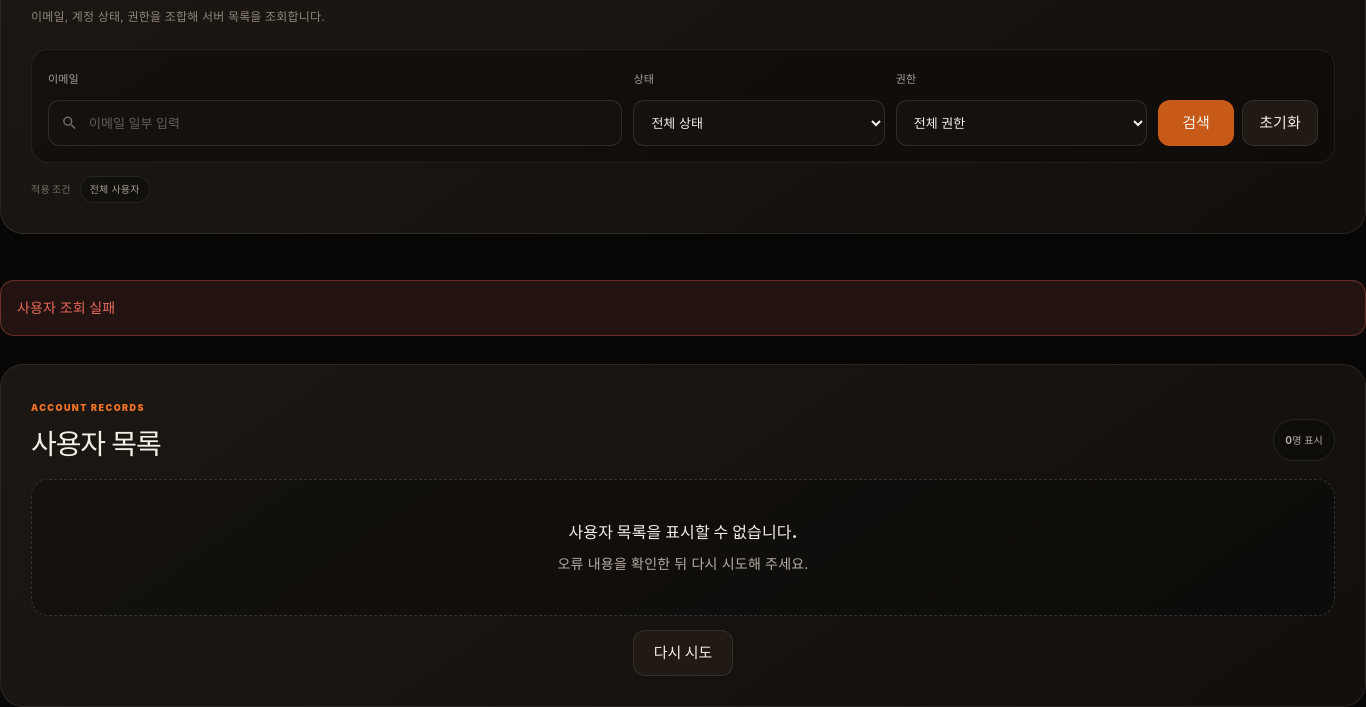
Test: AdminUsersPage › shows an initial load error separately and retries the list request
The width and height of the screenshot is (1366, 707).
(page scrolled)
Check: the text "사용자 조회 실패" is shown, box [0,280,1365,336]
Check: the text "사용자 목록을 표시할 수 없습니다." is shown, box [568,522,798,542]
Click the button "다시 시도" at coordinates (683, 653), box [633,630,733,676]
(page scrolled)
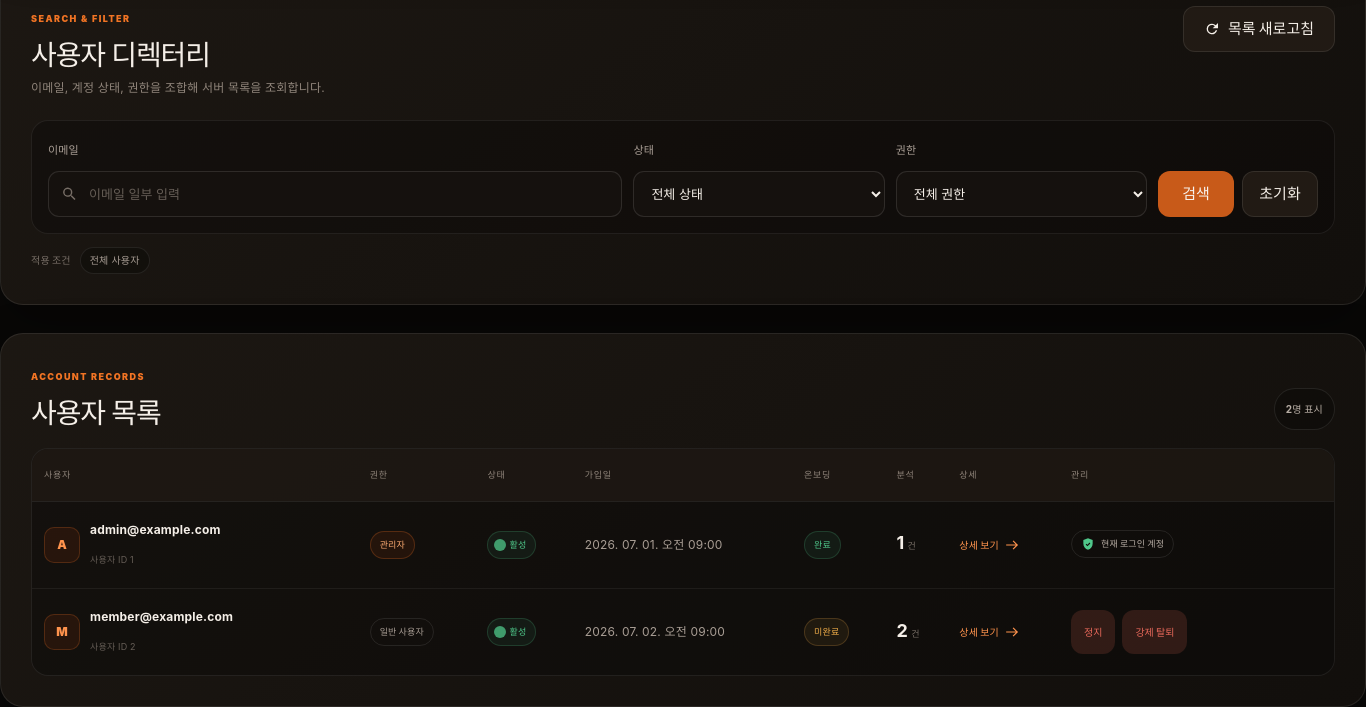
Check: the text "member@example.com" is shown, box [90,609,233,624]
